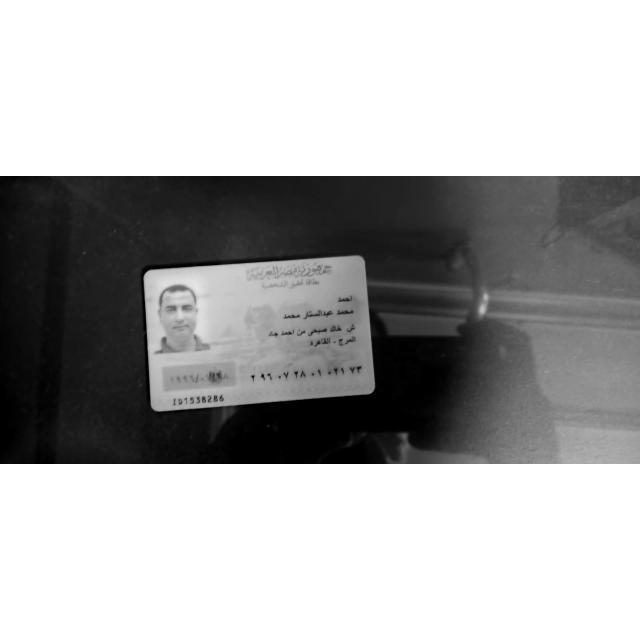id_card: (143, 256, 376, 411)
